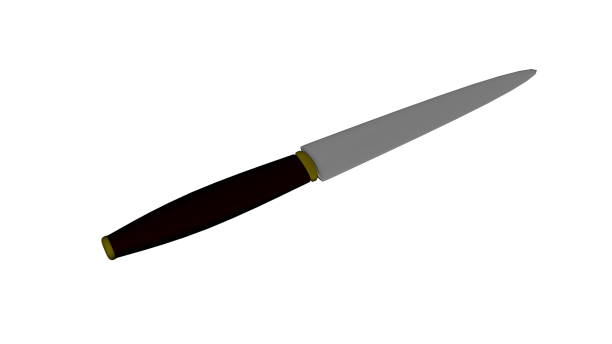knife: (100, 68, 538, 262)
